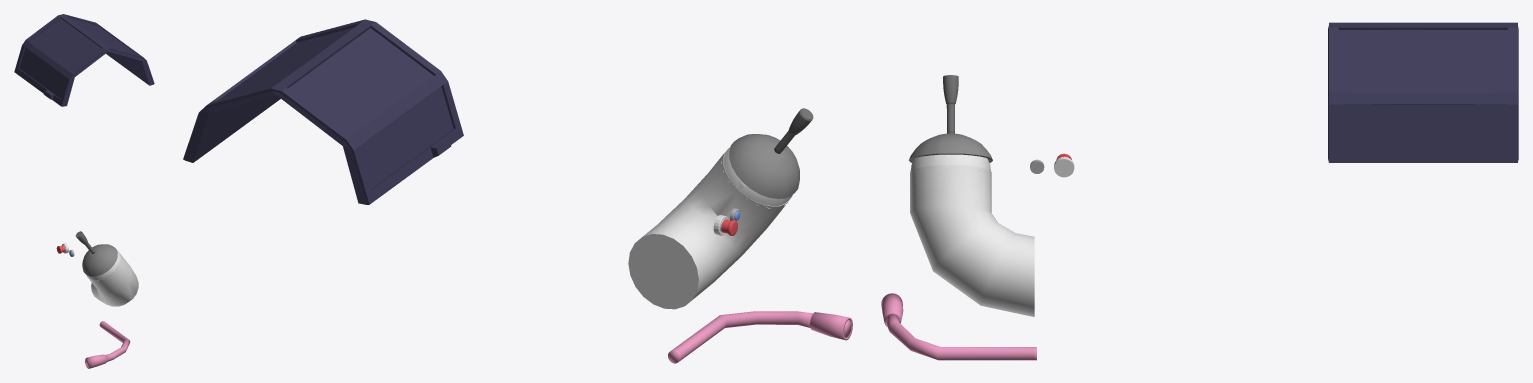
The model's file is latheUpdate.fbx.
The picture shows the model from 3 angles, left to right: view 1: azimuth 30°, elevation 25°; view 2: azimuth 150°, elevation 25°; view 3: azimuth 270°, elevation 25°; orthographic projection. The views are drawn at different scales.
Visible parts, largest first — view 1: Kreeshka, Richagg_solid, Richagg_krishka, Rookoyatka, Richagg; view 2: Kreeshka, Richagg_solid, Richagg_krishka, Rookoyatka, Richagg; view 3: Kreeshka, Richagg_solid, Rookoyatka, Richagg_krishka, Richagg.
Boxes of the visible parts, x1=… form: Kreeshka: x1=14, y1=14, x2=154, y2=106; Richagg_solid: x1=86, y1=251, x2=138, y2=306; Richagg_krishka: x1=82, y1=244, x2=117, y2=276; Rookoyatka: x1=85, y1=321, x2=130, y2=368; Richagg: x1=75, y1=231, x2=95, y2=253; Kreeshka: x1=183, y1=19, x2=463, y2=204; Richagg_solid: x1=628, y1=147, x2=792, y2=309; Richagg_krishka: x1=729, y1=134, x2=799, y2=198; Rookoyatka: x1=668, y1=311, x2=852, y2=363; Richagg: x1=774, y1=108, x2=813, y2=153; Kreeshka: x1=1328, y1=22, x2=1518, y2=162; Richagg_solid: x1=910, y1=154, x2=1034, y2=316; Rookoyatka: x1=881, y1=293, x2=1036, y2=360; Richagg_krishka: x1=908, y1=133, x2=992, y2=162; Richagg: x1=943, y1=75, x2=958, y2=133.
Size of the model in its own units: 59.84 by 67.48 by 93.77.
